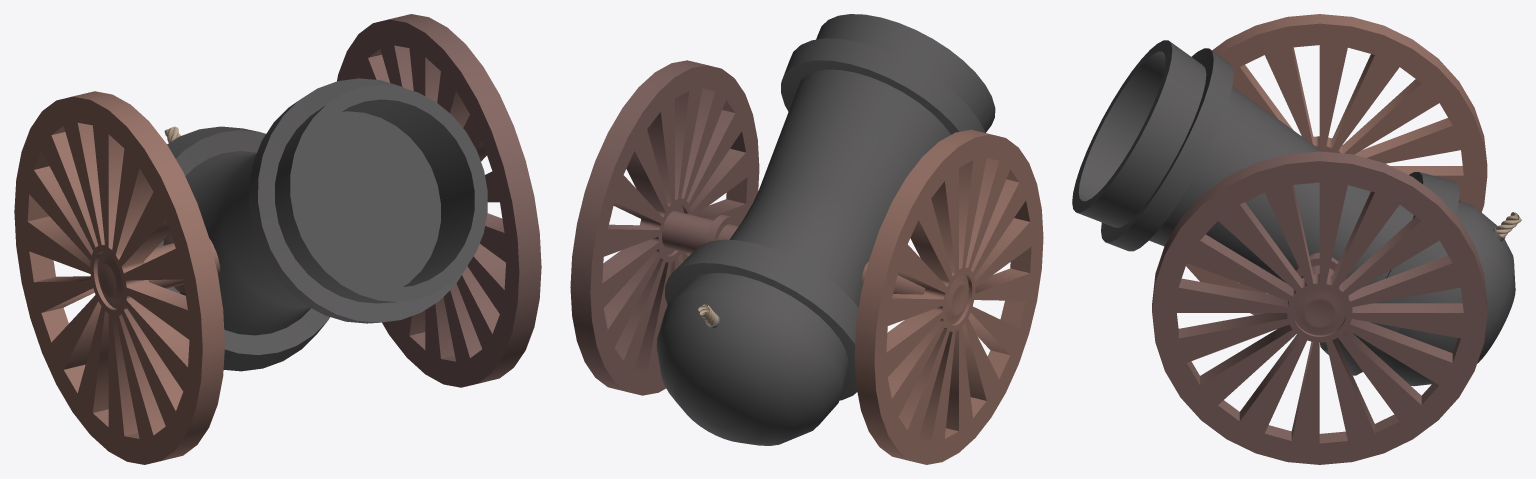
File: cannon.fbx
3 renders of one model, left to right at view 1: azimuth 30°, elevation 25°; view 2: azimuth 150°, elevation 25°; view 3: azimuth 270°, elevation 25°, orthographic. The views are drawn at different scales.
Visible parts, largest first — view 1: Cylinder, Cylinder.001, Cylinder.002; view 2: Cylinder, Cylinder.001, Cylinder.002; view 3: Cylinder.002, Cylinder, Cylinder.001.
Part boxes in pixels (box(x1,y1,x2,y2)): Cylinder: box(157, 78, 487, 371); Cylinder.001: box(14, 91, 224, 464); Cylinder.002: box(337, 14, 541, 387); Cylinder: box(656, 14, 995, 445); Cylinder.001: box(854, 129, 1043, 464); Cylinder.002: box(570, 60, 759, 395); Cylinder.002: box(1152, 151, 1487, 464); Cylinder: box(1072, 40, 1515, 386); Cylinder.001: box(1186, 14, 1487, 315).
Bounding box in the file's own units: 358 × 385 × 460.
